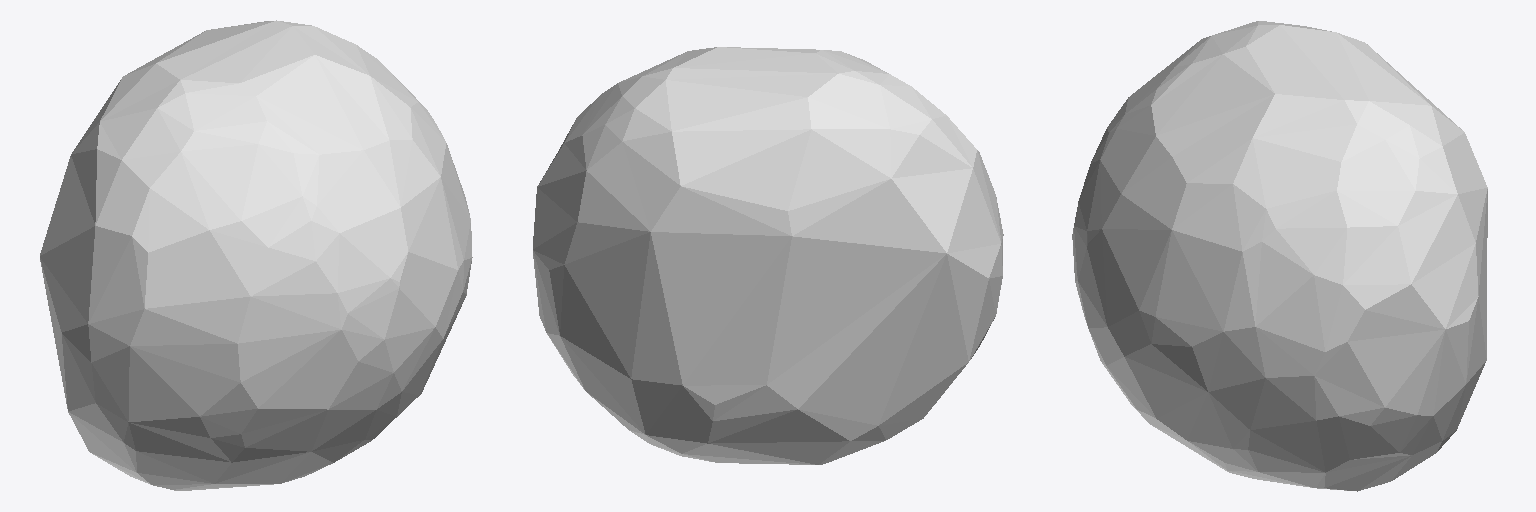
robot.urdf — talos_rarm_rom:
<?xml version="1.0" ?>
<robot name="talos_rarm_rom" xmlns:controller="http://playerstage.sourceforge.net/gazebo/xmlschema/#controller" xmlns:interface="http://playerstage.sourceforge.net/gazebo/xmlschema/#interface" xmlns:sensor="http://playerstage.sourceforge.net/gazebo/xmlschema/#sensor" xmlns:xacro="http://ros.org/wiki/xacro">

  <link name="torso_2_link">
    <inertial>
      <origin rpy="0.00000 0.00000 0.00000" xyz="-0.04551 -0.00053 0.16386"/>
      <mass value="17.55011"/>
      <inertia ixx="0.37376900000" ixy="0.00063900000" ixz="0.01219600000" iyy="0.24790200000" iyz="0.00000700000" izz="0.28140400000"/>
    </inertial>
    <visual>
      <origin rpy="0 0 0" xyz="0 0 0"/>
      <geometry>
        <mesh filename="package://talos-rbprm/meshes/talos_rarm_rom.dae" scale="1 1 1"/>
      </geometry>
      <material name="LightGrey"/>
    </visual>
    <collision>
      <origin rpy="0 0 0" xyz="0 0 0"/>
      <geometry>
        <mesh filename="package://talos-rbprm/meshes/talos_rarm_rom.stl" scale="1 1 1"/>
      </geometry>
    </collision>
  </link>
  <!--************************-->
  <!--        TORSO_1  (PAN)  -->
  <!--************************-->
  <link name="torso_1_link">
    <inertial>
      <origin rpy="0.00000 0.00000 0.00000" xyz="0.00013 -0.00001 -0.01306"/>
      <mass value="3.02433"/>
      <inertia ixx="0.00759400000" ixy="0.00000100000" ixz="-0.00004800000" iyy="0.00429200000" iyz="-0.00000100000" izz="0.00749700000"/>
    </inertial>
  </link>
  <joint name="torso_1_joint" type="revolute">
    <parent link="base_link"/>
    <child link="torso_1_link"/>
    <origin rpy="0.0 0.0 0.0" xyz="0.0 0.0 0.0722"/>
    <axis xyz="0 0 1"/>
    <limit effort="78.0" lower="-1.25663706144" upper="1.25663706144" velocity="5.4"/>
  </joint>
  <!--************************-->
  <!--        BASE_LINK       -->
  <!--************************-->
  <link name="base_link">
    <inertial>
      <origin rpy="0.00000 0.00000 0.00000" xyz="-0.08222 0.00838 -0.07261"/>
      <mass value="13.53810"/>
      <inertia ixx="0.06989000000" ixy="-0.00011700000" ixz="0.00023000000" iyy="0.03998200000" iyz="-0.00132500000" izz="0.08234500000"/>
    </inertial>
  </link>
  <joint name="torso_2_joint" type="revolute">
    <parent link="torso_1_link"/>
    <child link="torso_2_link"/>
    <origin rpy="0.0 0.0 0.0" xyz="0.0 0.0 0.0"/>
    <axis xyz="0 1 0"/>
    <limit effort="78.0" lower="-0.226892802759" upper="0.733038285838" velocity="5.4"/>
  </joint>
  <!-- define global properties -->
  <!-- <xacro:property name="M_PI" value="3.1415926535897931" /> -->
  <!-- Materials for visualization -->
  <material name="Blue">
    <color rgba="0.0 0.0 0.8 1.0"/>
  </material>
  <material name="Green">
    <color rgba="0.0 0.8 0.0 1.0"/>
  </material>
  <material name="Grey">
    <color rgba="0.7 0.7 0.7 1.0"/>
  </material>
  <material name="LightGrey">
    <color rgba="0.9 0.9 0.9 1.0"/>
  </material>
  <material name="DarkGrey">
    <color rgba="0.2 0.2 0.2 1.0"/>
  </material>
  <material name="Red">
    <color rgba="0.8 0.0 0.0 1.0"/>
  </material>
  <material name="White">
    <color rgba="1.0 1.0 1.0 1.0"/>
  </material>
  <material name="Orange">
    <color rgba="1.0 0.5 0.0 1.0"/>
  </material>
</robot>

--- Render facts (derived) ---
3 views of the same robot in one strip: view 1: azimuth 30°, elevation 25°; view 2: azimuth 150°, elevation 25°; view 3: azimuth 270°, elevation 25° (orthographic).
Model talos_rarm_rom with 3 links and 2 joints (2 revolute), rooted at base_link, posed every joint at zero.
Visible links, largest first — view 1: torso_2_link; view 2: torso_2_link; view 3: torso_2_link.
Link boxes in pixels (box(x1,y1,x2,y2)): torso_2_link: box(40, 20, 472, 490); torso_2_link: box(533, 47, 1003, 464); torso_2_link: box(1072, 21, 1487, 491).
Bounding box of the posed robot: 1.65 × 1.41 × 1.51 m (x, y, z).
1 mesh visuals loaded from 1 distinct referenced files (1 Collada DAE).